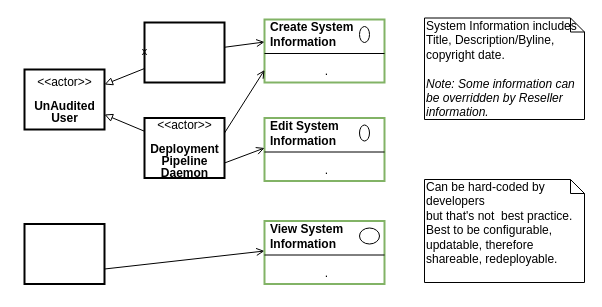
Some shapes in this 602 by 307 pixel diagram are drawn without their labels. The shapes that lost their labels are listed below. From the top down, each one's centre as x and y in pixels, then its label:
At (x=184, y=52): "<<actor>> Developer".
At (x=64, y=253): "<<actor>> Unauthenticated User".
